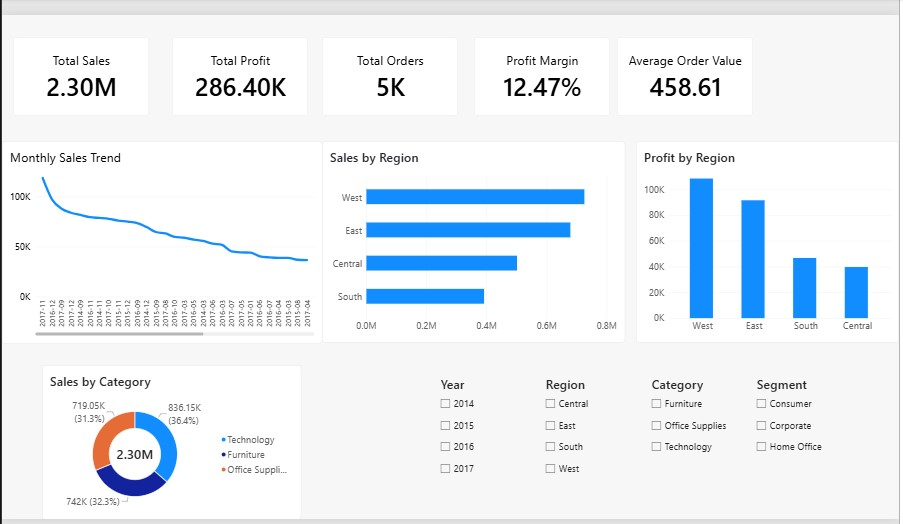

The dashboard page shown, as its layout file describes it:
{"tool":"powerbi","page":{"name":"Sales Overview","canvas":[1920,1080],"ordinal":0},"visuals":[{"type":"cardVisual","fields":{"Data":["Calendar.Total Sales"]},"box":[23.5,47.1,291.1,169.1],"z":0},{"type":"lineChart","title":"Monthly Sales Trend","fields":{"Category":["Calendar.Year-Month"],"Y":["Calendar.Total Sales"]},"box":[0,268.8,685.9,434.3],"z":1000},{"type":"clusteredBarChart","title":"Sales by Region","fields":{"Category":["Orders.Region"],"Y":["Calendar.Total Sales"]},"box":[685.9,268.8,648.6,432.4],"z":2000},{"type":"donutChart","title":"Sales by Category","fields":{"Category":["Orders.Category"],"Y":["Calendar.Total Sales"]},"box":[86,748.2,554.7,331.1],"z":3000},{"type":"slicer","fields":{"Values":["Orders.Category"]},"box":[1382.7,770.6,188.4,286.8],"z":4000},{"type":"clusteredColumnChart","title":"Profit by Region","fields":{"Category":["Orders.Region"],"Y":["Calendar.Total Profit"]},"box":[1356.7,268.8,563.3,432.2],"z":5000},{"type":"slicer","fields":{"Values":["Orders.Segment"]},"box":[1607.5,770.6,158.4,286.8],"z":5001},{"type":"slicer","fields":{"Values":["Orders.Region"]},"box":[1155.9,770.6,158.4,286.8],"z":5003},{"type":"slicer","fields":{"Values":["Calendar.Year"]},"box":[931.1,770.6,158.4,286.8],"z":5004},{"type":"cardVisual","fields":{"Data":["Calendar.Profit Margin"]},"box":[1010.3,47.1,291.1,169.1],"z":5005},{"type":"cardVisual","fields":{"Data":["Calendar.Total Orders"]},"box":[684.9,47.1,291.1,169.1],"z":5006},{"type":"cardVisual","fields":{"Data":["Calendar.Total Profit"]},"box":[363.9,47.1,291.1,169.1],"z":5007},{"type":"cardVisual","fields":{"Data":["Calendar.Average Order Value"]},"box":[1316.4,47.1,291.1,169.1],"z":5008}]}

Visuals, with their boxes on the page's 1920x1080 design canvas (x1, y1, x2, y2). These are canvas units, not pixel positions in the 903x524 screenshot, which may show the page scaled, cropped or inside an application window:
cardVisual - Calendar.Total Sales: locate(24, 47, 315, 216)
"Monthly Sales Trend" lineChart: locate(0, 269, 686, 703)
"Sales by Region" clusteredBarChart: locate(686, 269, 1334, 701)
"Sales by Category" donutChart: locate(86, 748, 641, 1079)
slicer - Orders.Category: locate(1383, 771, 1571, 1057)
"Profit by Region" clusteredColumnChart: locate(1357, 269, 1920, 701)
slicer - Orders.Segment: locate(1608, 771, 1766, 1057)
slicer - Orders.Region: locate(1156, 771, 1314, 1057)
slicer - Calendar.Year: locate(931, 771, 1090, 1057)
cardVisual - Calendar.Profit Margin: locate(1010, 47, 1301, 216)
cardVisual - Calendar.Total Orders: locate(685, 47, 976, 216)
cardVisual - Calendar.Total Profit: locate(364, 47, 655, 216)
cardVisual - Calendar.Average Order Value: locate(1316, 47, 1608, 216)
